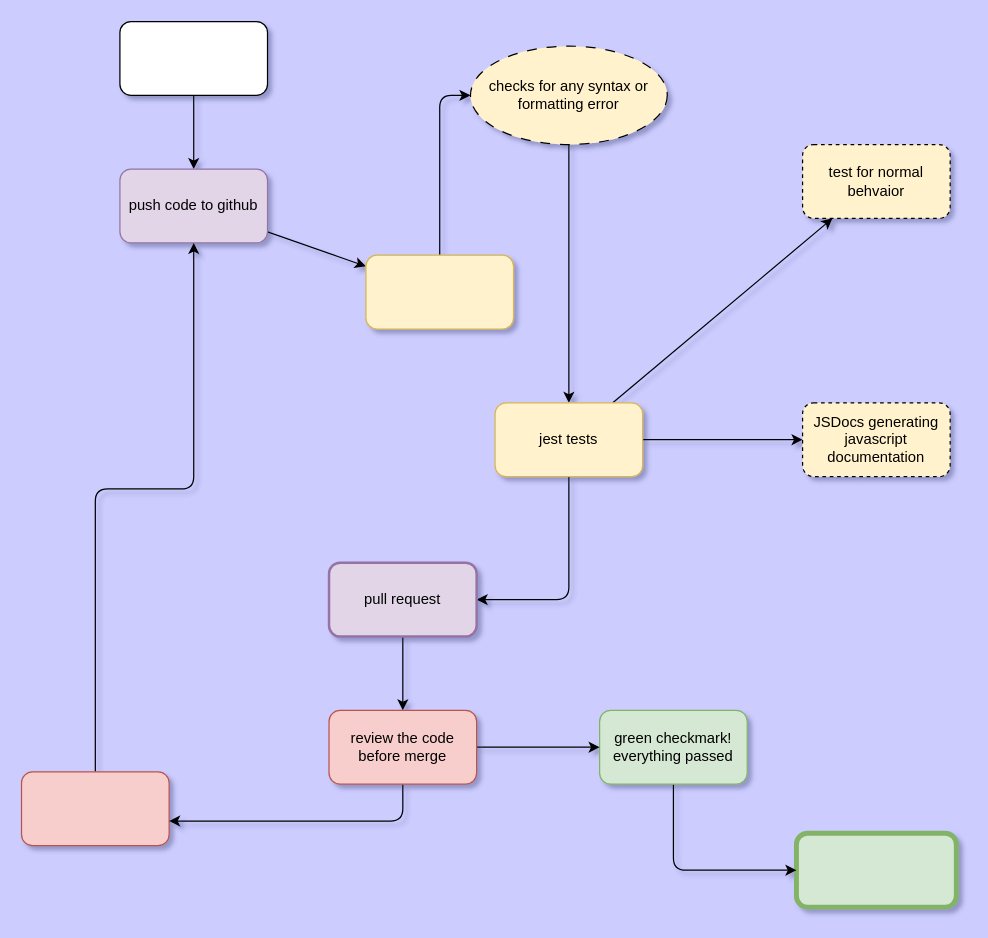
Some shapes in this 988 by 938 pixel diagram are drawn without their labels. Each missing label, with the centre of its shape:
"developer" belongs at (x=193, y=57).
"if not mergable, make some adjustments" belongs at (x=94, y=808).
"merge code!" belongs at (x=875, y=869).
"run linter checks" belongs at (x=439, y=291).
